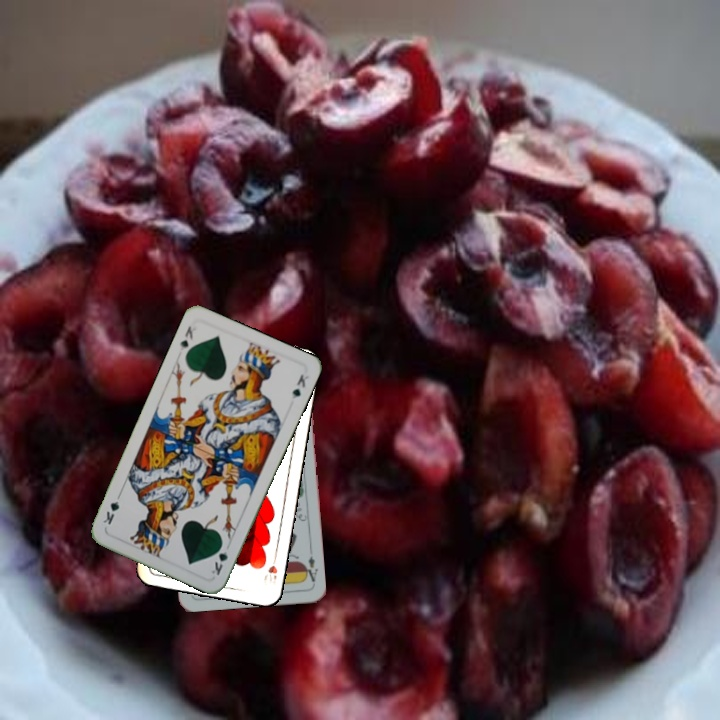EA: (300, 552, 320, 587)
GK: (207, 538, 230, 578), (176, 322, 196, 353)
H10: (260, 550, 280, 588)
